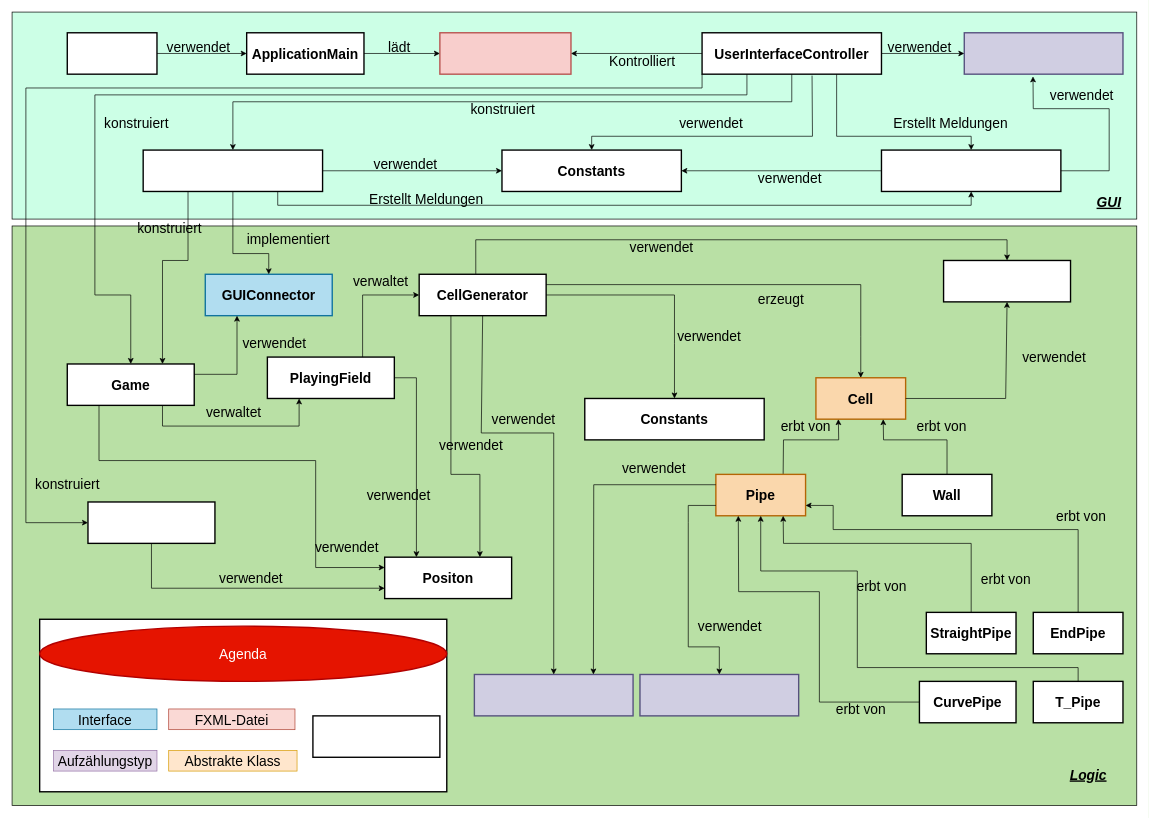
The diagram is 1149 pixels wide and 818 high, and some of its shapes have lost their labels. Here are the shapes that lost their labels. From the top down, the centre of each, then its label:
At point (111, 53): "JarMain".
At point (505, 53): "UserInterface".
At point (1043, 53): "ExceptionCode".
At point (232, 170): "JavaFXGUI".
At point (970, 170): "GUIAlert".
At point (1007, 280): "Helper".
At point (151, 522): "GameData".
At point (553, 694): "OpeningDirection".
At point (719, 694): "Rotation".
At point (376, 736): "Konkrete Klasse".
